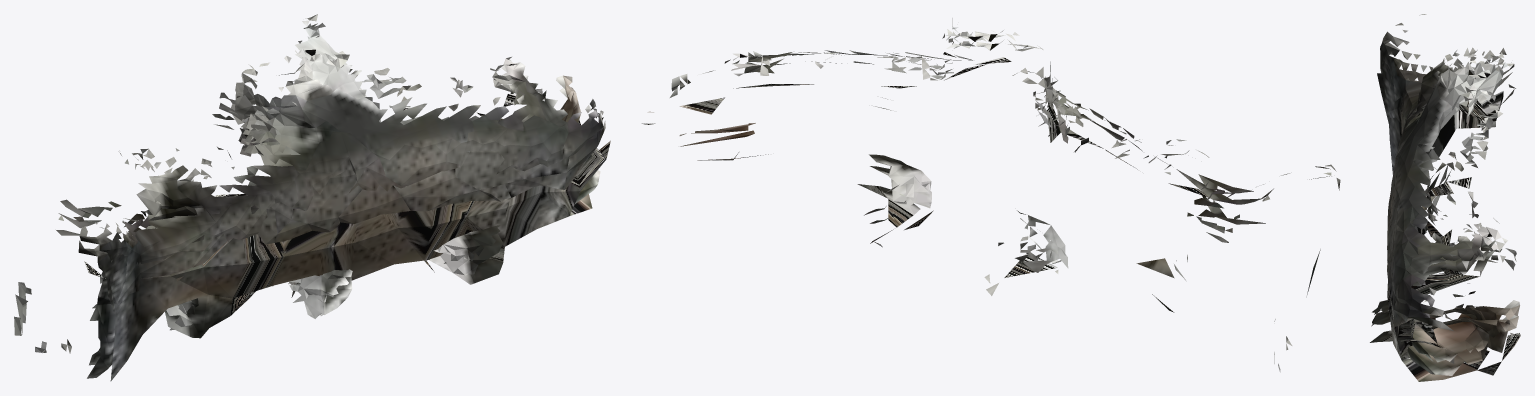
Rendered from imp-fresh-fish.glb.
3 views of the same model, side by side, from view 1: azimuth 30°, elevation 25°; view 2: azimuth 150°, elevation 25°; view 3: azimuth 270°, elevation 25° (orthographic). The views are drawn at different scales.
Parts seen in each view (by area): view 1: Kerbside_metres_ground_pivot (×3); view 2: Kerbside_metres_ground_pivot (×3); view 3: Kerbside_metres_ground_pivot (×3).
Boxes of the visible parts, left/top/right/bottom form: Kerbside_metres_ground_pivot (×3): left=14, top=14, right=610, bottom=381; Kerbside_metres_ground_pivot (×3): left=642, top=18, right=1340, bottom=372; Kerbside_metres_ground_pivot (×3): left=1370, top=14, right=1520, bottom=381.
Size of the model in its own units: 0.35 by 0.1544 by 0.083.
1 material, 1 textured.
